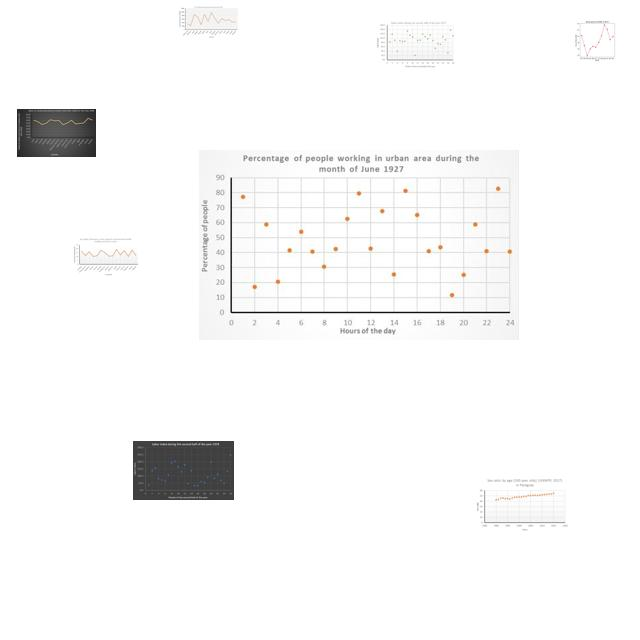Graph: (199, 150, 519, 340), (133, 441, 234, 500), (474, 477, 569, 534), (17, 109, 96, 157), (376, 21, 455, 68), (72, 237, 139, 277), (567, 18, 626, 62), (179, 6, 238, 38)
